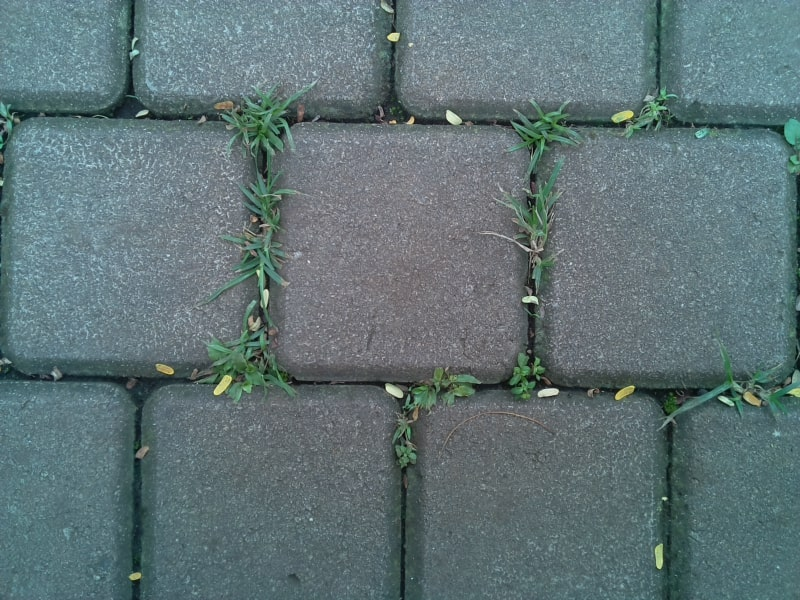Weed: (241, 180, 293, 291), (204, 325, 286, 391), (509, 188, 558, 282), (227, 97, 299, 158), (708, 366, 791, 418), (517, 104, 576, 159), (414, 379, 479, 403), (508, 356, 545, 397), (396, 413, 420, 470), (637, 91, 670, 132), (781, 117, 800, 183), (1, 101, 20, 141)
